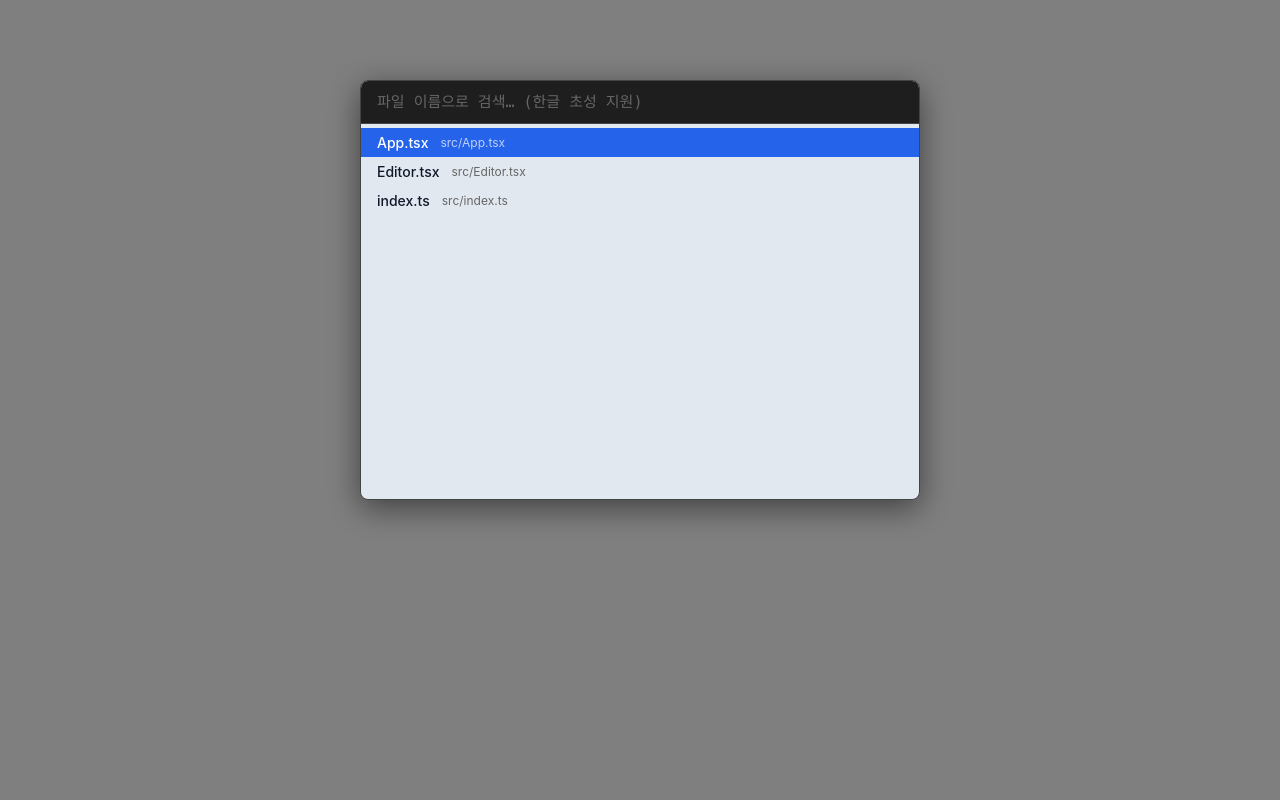
it: QuickOpen › shows empty message when no matches
Check: the text "App.tsx" is shown, box [377,134,428,151]
Type "zzzznoexist" into the field with placeholder "파일 이름으로 검색… (한글 초성 지원)" at (640, 102), box [361,81,919,124]
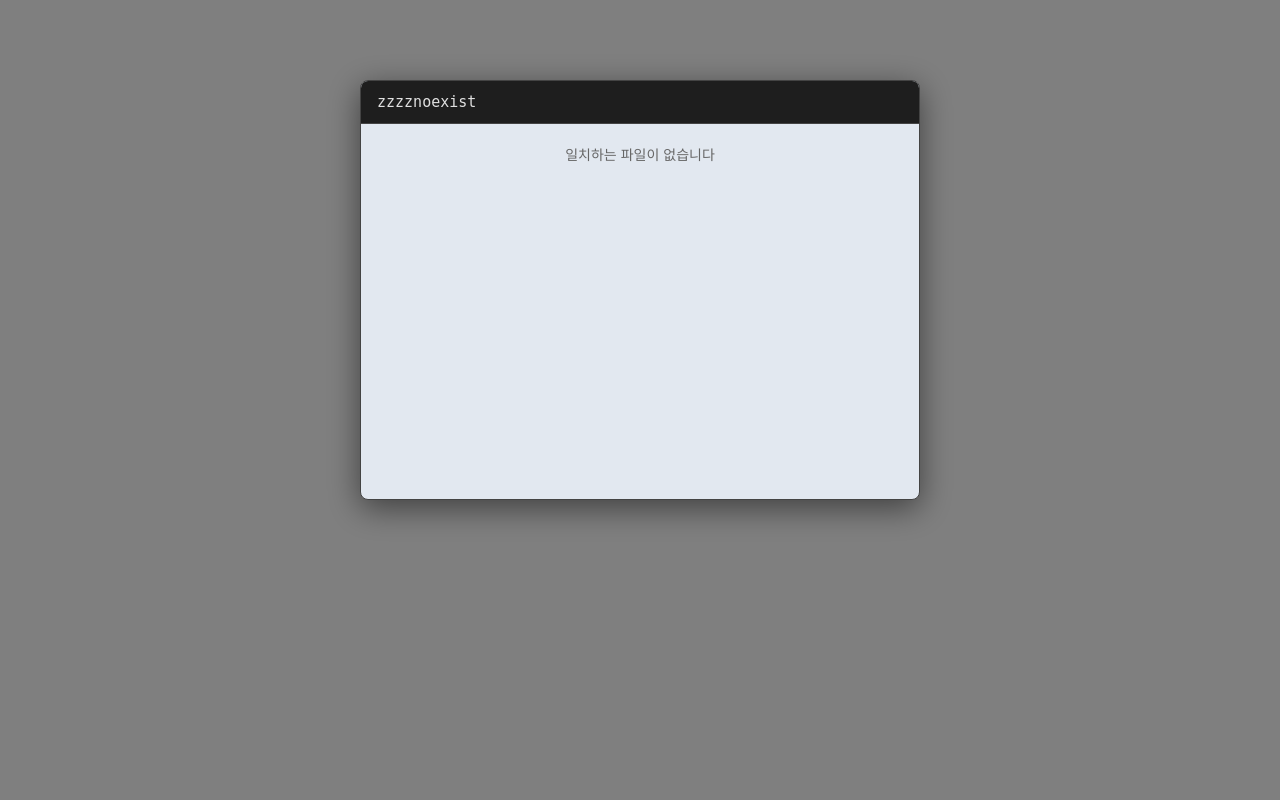
Check: the text "일치하는 파일이 없습니다" is shown, box [565,146,715,163]
